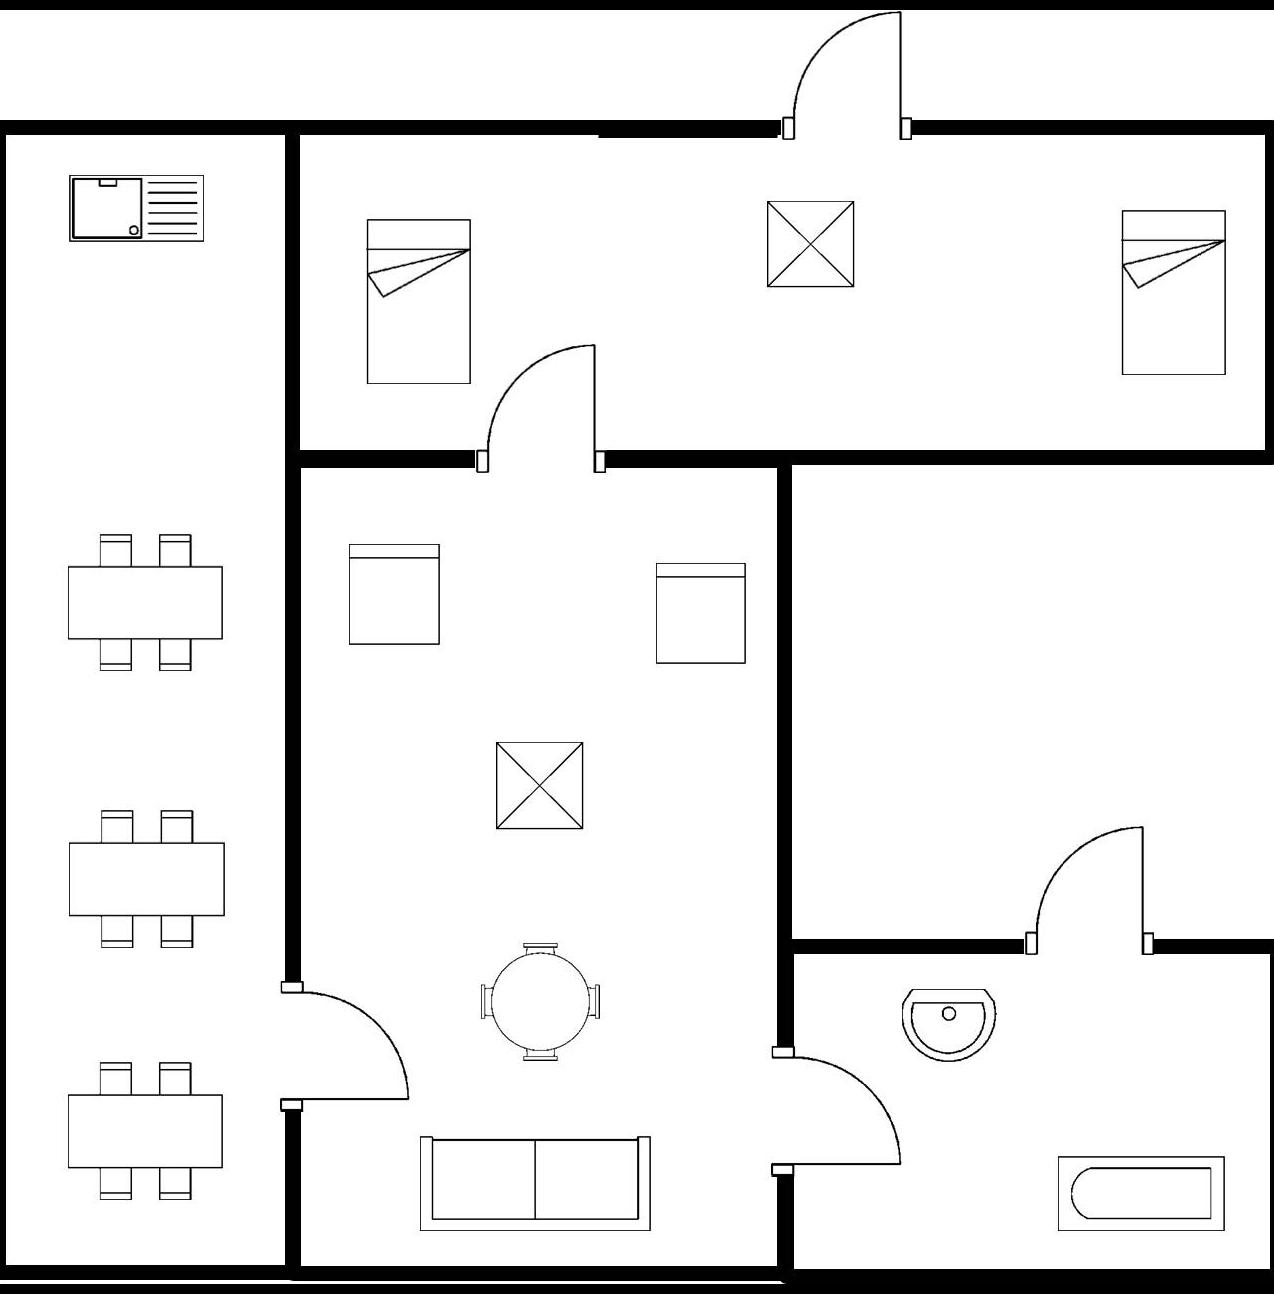bed: (1112, 202, 1234, 385), (362, 214, 478, 392)
dining_table: (60, 1043, 233, 1211), (60, 529, 231, 685), (62, 804, 235, 959)
round_table: (474, 933, 608, 1071)
sink: (55, 168, 211, 251)
sofa: (414, 1128, 659, 1238)
tub: (1044, 1150, 1234, 1238)
